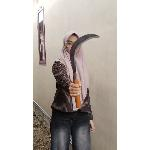Celurit: (66, 28, 106, 112)
